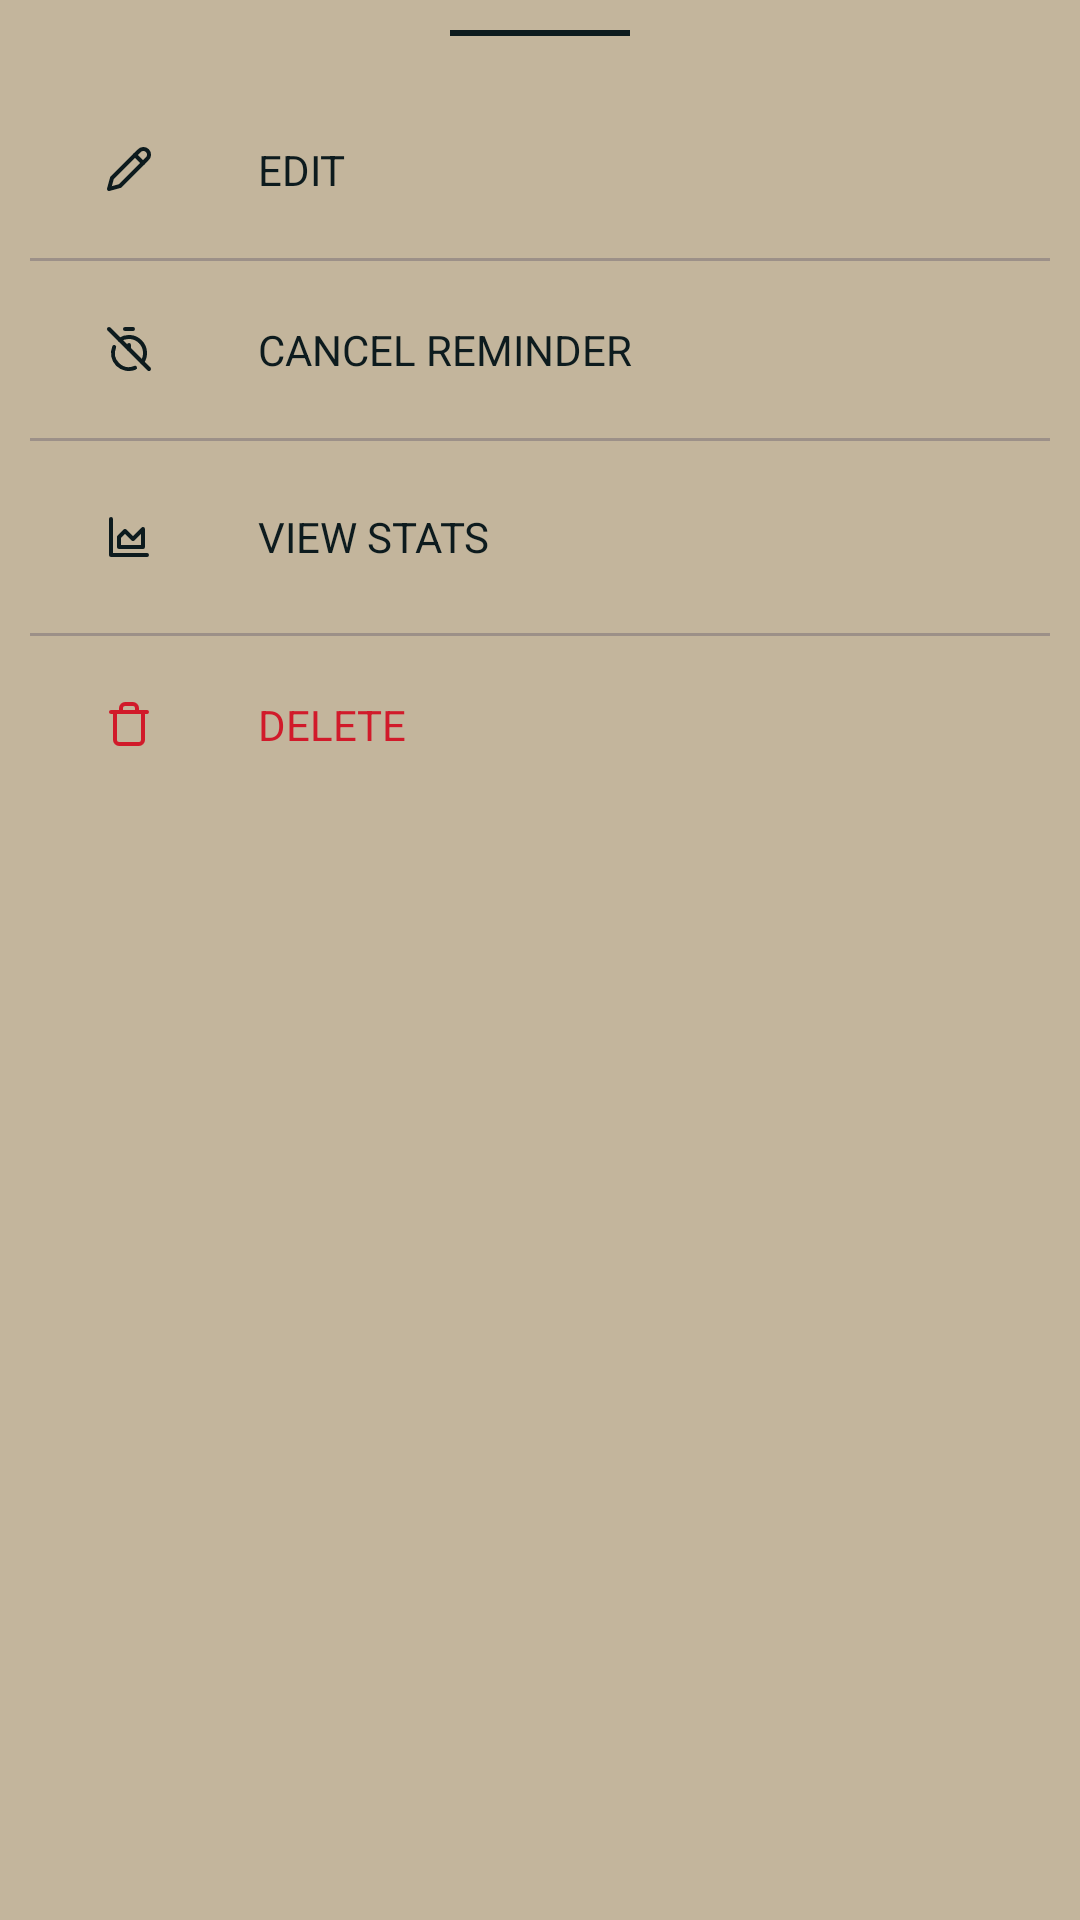

Icon click points for this 1080px×1920px phone screenshot, format (x=x, y=y):
area chart: (x=129, y=537)
pencil: (x=129, y=169)
timer off: (x=129, y=349)
trash: (x=129, y=724)
